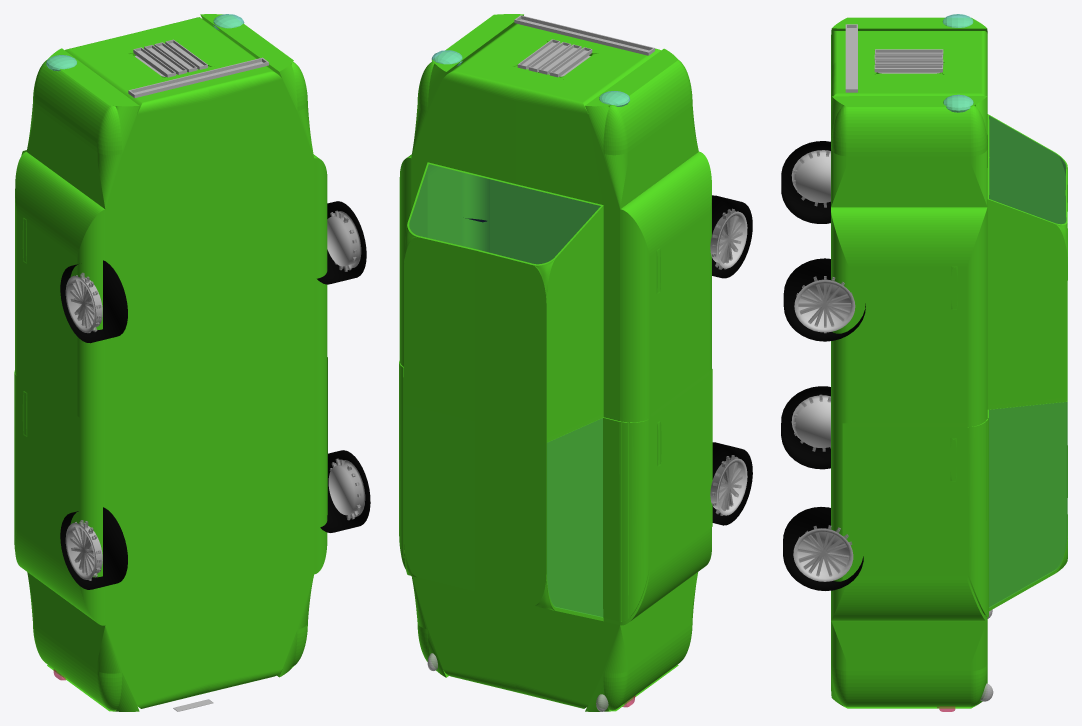
File: miniCooper.glb
The picture shows the model from 3 angles, left to right: view 1: azimuth 30°, elevation 25°; view 2: azimuth 150°, elevation 25°; view 3: azimuth 270°, elevation 25°; orthographic projection.
Parts seen in each view (by area): view 1: CUERPO DEL AUTO, RUEDA1, RUEDA2, RUEDA3, RUEDA4, PARRILLA BAJA.001, PARRILLA BAJA; view 2: CUERPO DEL AUTO, RUEDA2, RUEDA1, PARRILLA BAJA.001, PARRILLA BAJA; view 3: CUERPO DEL AUTO, RUEDA3, RUEDA4, RUEDA1, RUEDA2, PARRILLA BAJA.001, PARRILLA BAJA.
Part boxes in pixels (x1,y1,x2,y2): CUERPO DEL AUTO: (14, 14, 327, 711); RUEDA1: (60, 507, 127, 589); RUEDA2: (60, 260, 127, 343); RUEDA3: (320, 450, 370, 532); RUEDA4: (317, 201, 366, 284); PARRILLA BAJA.001: (133, 39, 207, 77); PARRILLA BAJA: (128, 57, 268, 97); CUERPO DEL AUTO: (399, 14, 712, 711); RUEDA2: (710, 195, 752, 278); RUEDA1: (710, 442, 752, 525); PARRILLA BAJA.001: (517, 39, 592, 77); PARRILLA BAJA: (514, 15, 654, 55); CUERPO DEL AUTO: (831, 17, 1067, 708); RUEDA3: (783, 507, 863, 590); RUEDA4: (783, 258, 865, 341); RUEDA1: (781, 386, 830, 469); RUEDA2: (781, 141, 830, 223); PARRILLA BAJA.001: (874, 49, 943, 72); PARRILLA BAJA: (845, 24, 857, 92).
Size of the model in its own units: 1.96 by 4.38 by 1.81.
